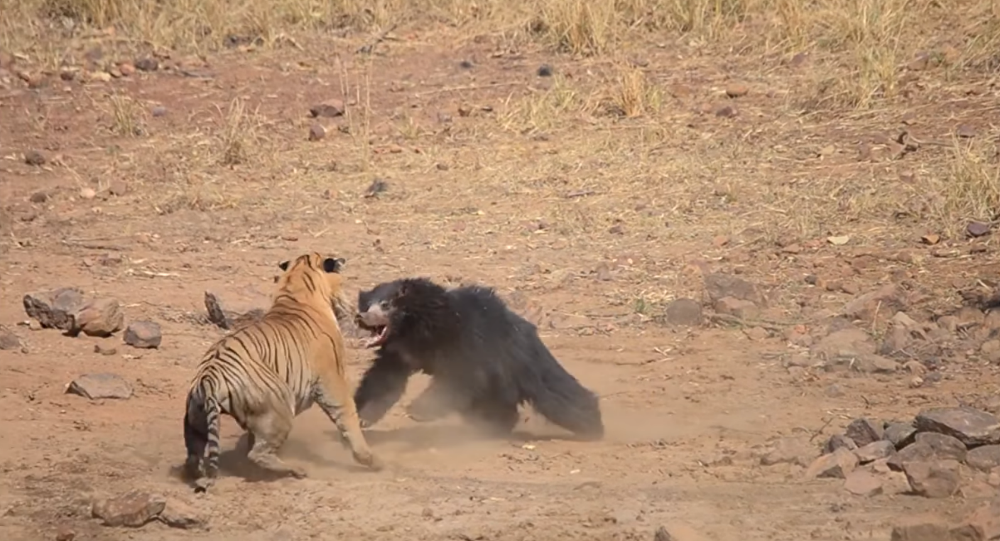Tiger: (178, 240, 386, 500)
